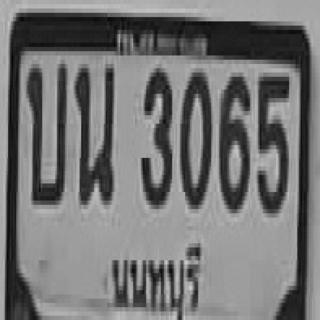A25: (75, 62, 112, 203)
A26: (26, 60, 65, 201)
N00: (179, 68, 209, 205)
N03: (140, 64, 171, 205)
N05: (257, 72, 287, 209)
N06: (218, 72, 248, 209)
P37: (108, 230, 204, 318)
